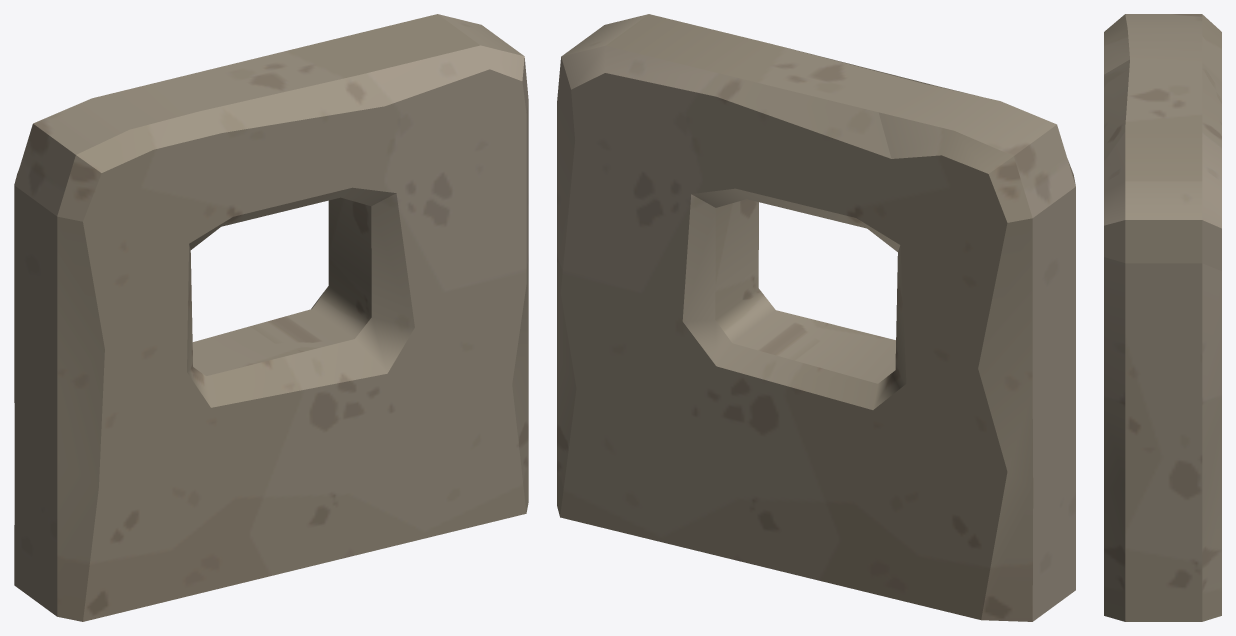
Rendered from SM_Env_Ruin_04.glb.
3 renders of one model, left to right at view 1: azimuth 30°, elevation 25°; view 2: azimuth 150°, elevation 25°; view 3: azimuth 270°, elevation 25°, orthographic. The views are drawn at different scales.
Visible parts, largest first — view 1: SM_Env_Ruin_04; view 2: SM_Env_Ruin_04; view 3: SM_Env_Ruin_04.
Boxes of the visible parts, left/top/right/bottom form: SM_Env_Ruin_04: left=14, top=14, right=528, bottom=621; SM_Env_Ruin_04: left=557, top=14, right=1075, bottom=621; SM_Env_Ruin_04: left=1104, top=14, right=1221, bottom=621.
Size of the model in its own units: 3.74 by 3.55 by 0.9027.
Materials: 1 (1 with a texture image).
